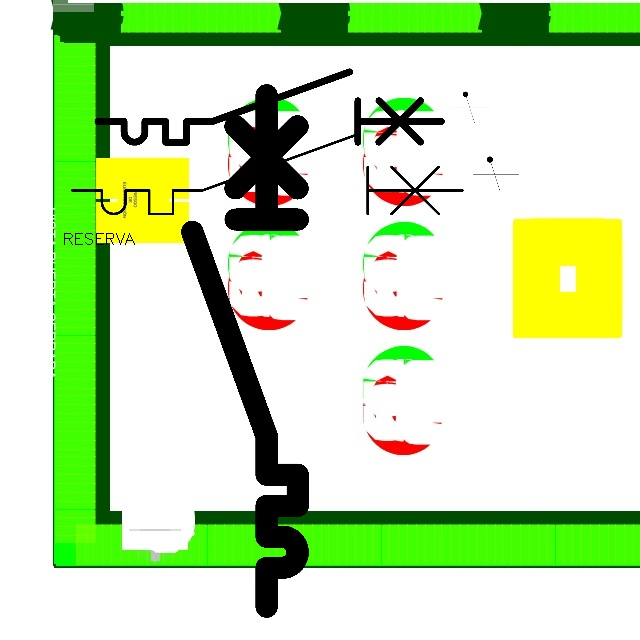interruptor_termomagnetico: (179, 82, 311, 620), (62, 124, 472, 224), (89, 63, 450, 151)
